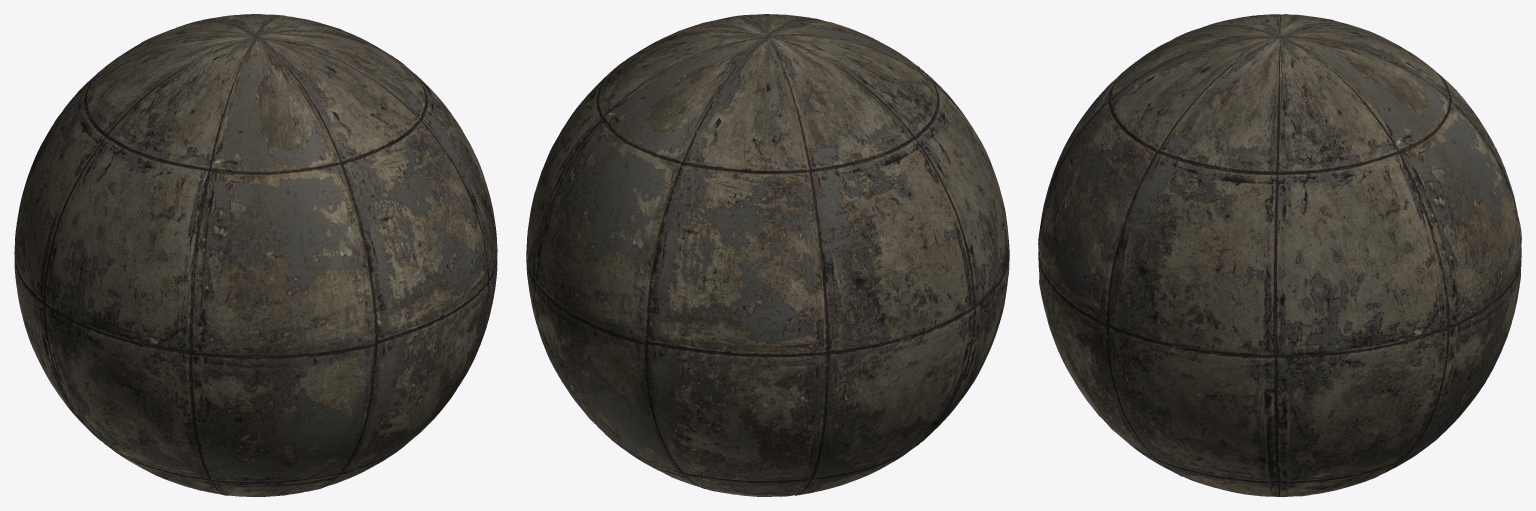
Rendered from worn_tile_floor_1k.gltf.
The picture shows the model from 3 angles, left to right: view 1: azimuth 30°, elevation 25°; view 2: azimuth 150°, elevation 25°; view 3: azimuth 270°, elevation 25°; orthographic projection.
Visible parts, largest first — view 1: sphere_gltf; view 2: sphere_gltf; view 3: sphere_gltf.
Part boxes in pixels (bbox=[...]): sphere_gltf: bbox=[14, 14, 497, 496]; sphere_gltf: bbox=[526, 14, 1009, 496]; sphere_gltf: bbox=[1038, 14, 1521, 496].
Size of the model in its own units: 2.01 by 2.01 by 2.01.
Materials: 1 (1 with a texture image).
